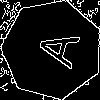A: (27, 24, 80, 69)
